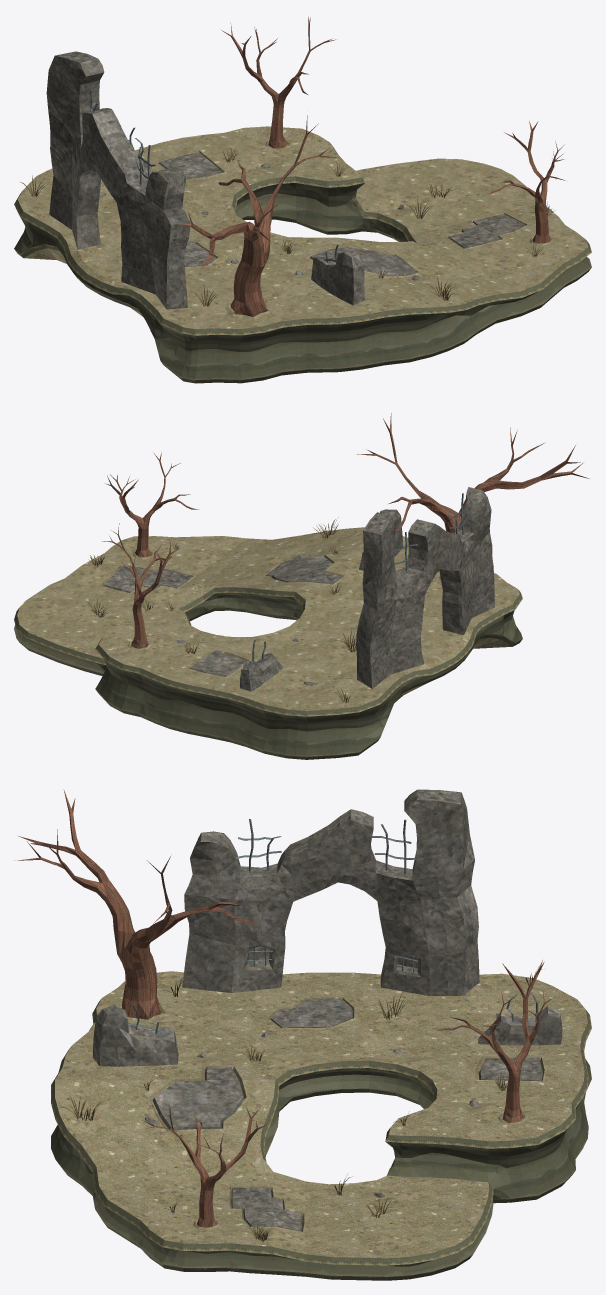
3 renders of one model, top to bottom at view 1: azimuth 30°, elevation 25°; view 2: azimuth 150°, elevation 25°; view 3: azimuth 270°, elevation 25°, orthographic. The views are drawn at different scales.
Visible parts, largest first — view 1: Course-COM-Planet_obj-72668-auto7.001, Course-COM-Planet_obj-72668-Material.001, Course-COM-Planet_obj-72668-auto5.001, Course-COM-Planet_obj-72668-auto6.001, Course-COM-Planet_obj-72668-auto9.001, Course-COM-Planet_obj-72668-auto12.001, Course-COM-Planet_obj-72668-auto4.001; view 2: Course-COM-Planet_obj-72668-auto7.001, Course-COM-Planet_obj-72668-Material.001, Course-COM-Planet_obj-72668-auto5.001, Course-COM-Planet_obj-72668-auto6.001, Course-COM-Planet_obj-72668-auto9.001, Course-COM-Planet_obj-72668-auto12.001, Course-COM-Planet_obj-72668-auto4.001; view 3: Course-COM-Planet_obj-72668-auto7.001, Course-COM-Planet_obj-72668-Material.001, Course-COM-Planet_obj-72668-auto5.001, Course-COM-Planet_obj-72668-auto9.001, Course-COM-Planet_obj-72668-auto6.001, Course-COM-Planet_obj-72668-auto12.001, Course-COM-Planet_obj-72668-auto4.001.
Boxes of the visible parts, x1,y1,x2,y2 form: Course-COM-Planet_obj-72668-auto7.001: [17, 126, 588, 329]; Course-COM-Planet_obj-72668-Material.001: [46, 51, 525, 309]; Course-COM-Planet_obj-72668-auto5.001: [14, 183, 591, 379]; Course-COM-Planet_obj-72668-auto6.001: [14, 144, 591, 383]; Course-COM-Planet_obj-72668-auto9.001: [172, 16, 565, 316]; Course-COM-Planet_obj-72668-auto12.001: [20, 147, 555, 306]; Course-COM-Planet_obj-72668-auto4.001: [90, 89, 338, 262]; Course-COM-Planet_obj-72668-auto7.001: [17, 527, 519, 710]; Course-COM-Planet_obj-72668-Material.001: [103, 487, 494, 691]; Course-COM-Planet_obj-72668-auto5.001: [14, 592, 522, 756]; Course-COM-Planet_obj-72668-auto6.001: [14, 587, 522, 759]; Course-COM-Planet_obj-72668-auto9.001: [102, 413, 589, 648]; Course-COM-Planet_obj-72668-auto12.001: [87, 517, 356, 702]; Course-COM-Planet_obj-72668-auto4.001: [252, 493, 467, 660]; Course-COM-Planet_obj-72668-auto7.001: [55, 971, 587, 1258]; Course-COM-Planet_obj-72668-Material.001: [93, 789, 562, 1231]; Course-COM-Planet_obj-72668-auto5.001: [51, 1059, 591, 1276]; Course-COM-Planet_obj-72668-auto9.001: [14, 789, 554, 1227]; Course-COM-Planet_obj-72668-auto6.001: [51, 999, 591, 1280]; Course-COM-Planet_obj-72668-auto12.001: [60, 967, 542, 1241]; Course-COM-Planet_obj-72668-auto4.001: [128, 819, 539, 1034].
Size of the model in its own units: 20721 by 9330 by 18798.
Materials: 7 (7 with a texture image).
